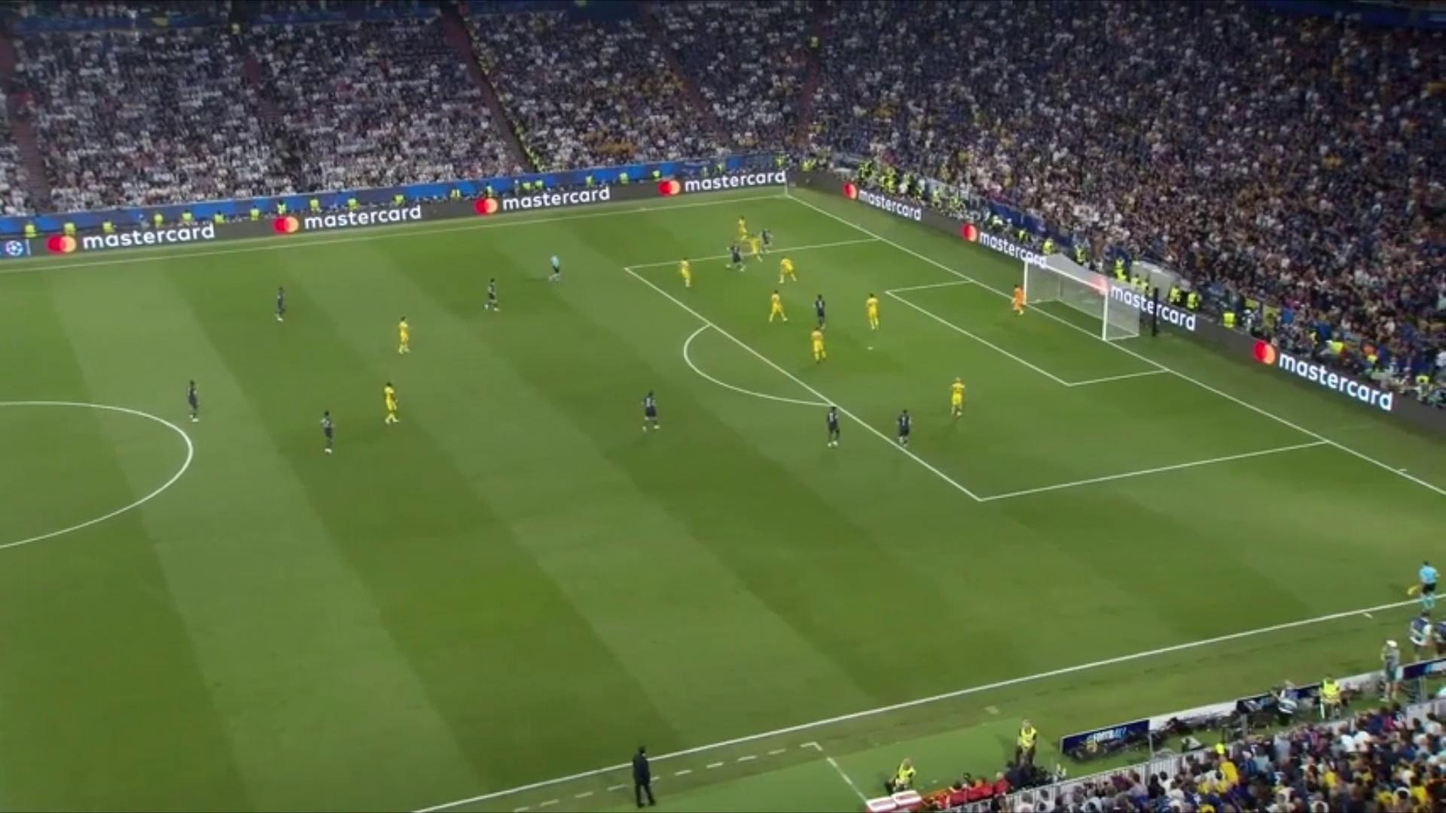ball: (725, 264, 731, 269)
player_A: (315, 408, 341, 459), (183, 378, 209, 425), (640, 384, 663, 433), (893, 408, 914, 451), (827, 404, 842, 451), (271, 283, 289, 321), (810, 292, 829, 327), (483, 278, 502, 312), (728, 243, 746, 271), (757, 227, 775, 253)
player_B: (393, 315, 418, 360), (381, 380, 404, 427), (947, 376, 970, 421), (861, 292, 886, 332), (675, 257, 697, 290), (807, 330, 829, 361), (767, 291, 787, 323), (777, 256, 798, 282), (744, 236, 763, 263), (736, 213, 750, 241)
player_B_goal_keeper: (1007, 282, 1028, 316)
referee: (1406, 561, 1442, 617), (546, 247, 565, 282)
